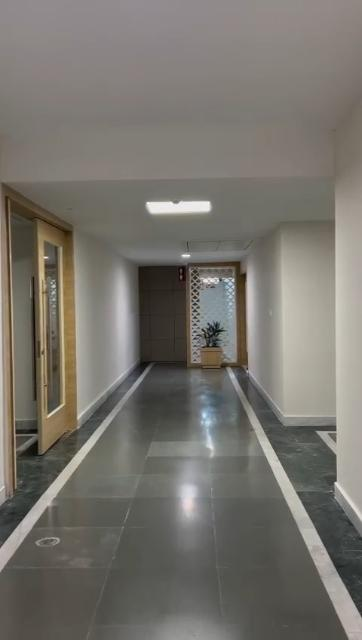floor: (0, 365, 362, 640), (0, 194, 74, 448)
object: (192, 320, 231, 370)
wall: (246, 248, 324, 412), (329, 102, 362, 480), (74, 240, 142, 376)
